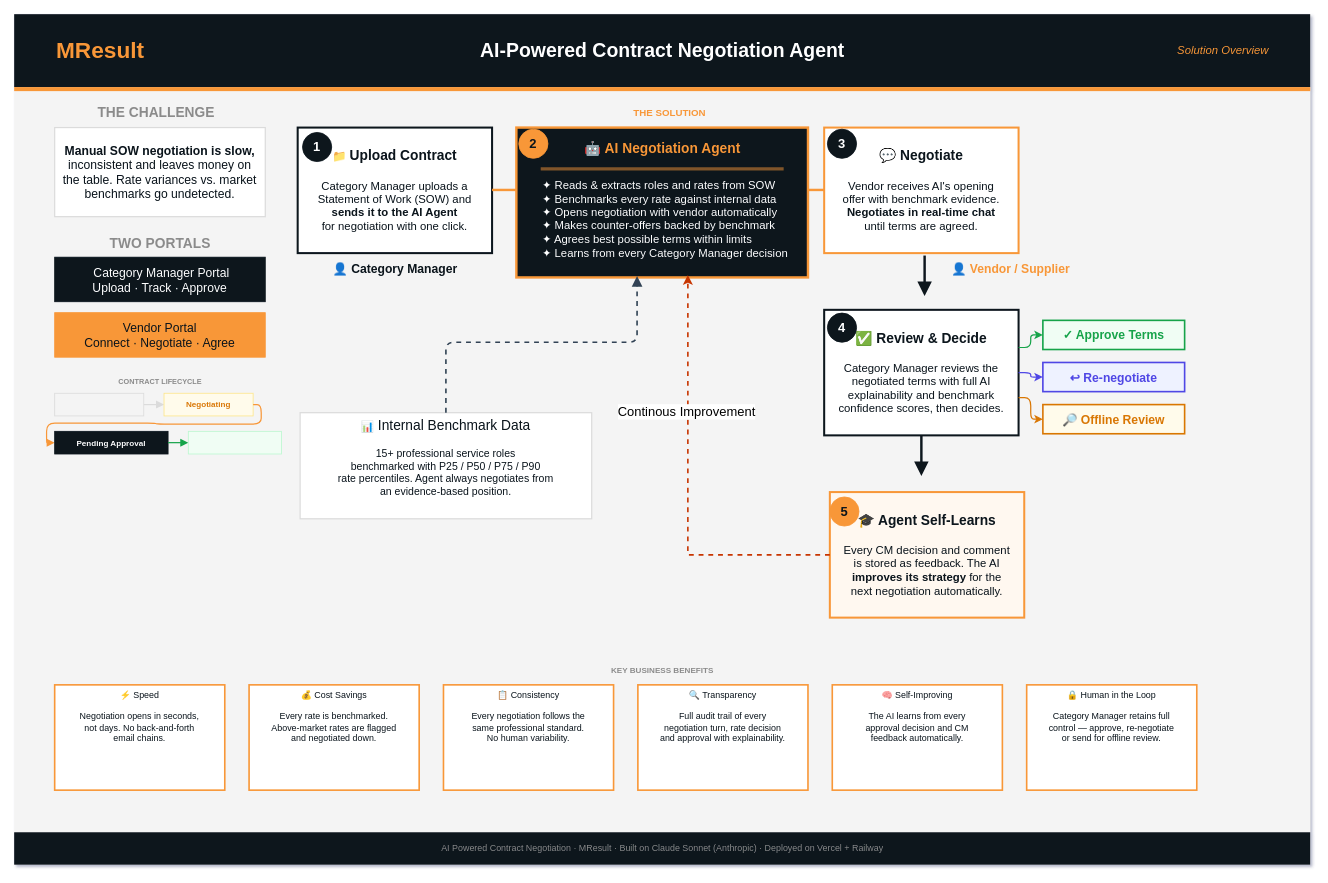
Image size: 1328x883. Some labels were removed from this diagram. Here are the shapes that lost their labels. From the top down, the centre of each, then its label:
At pixel 99 404: "Uploaded".
At pixel 234 442: "Approved ✓".
